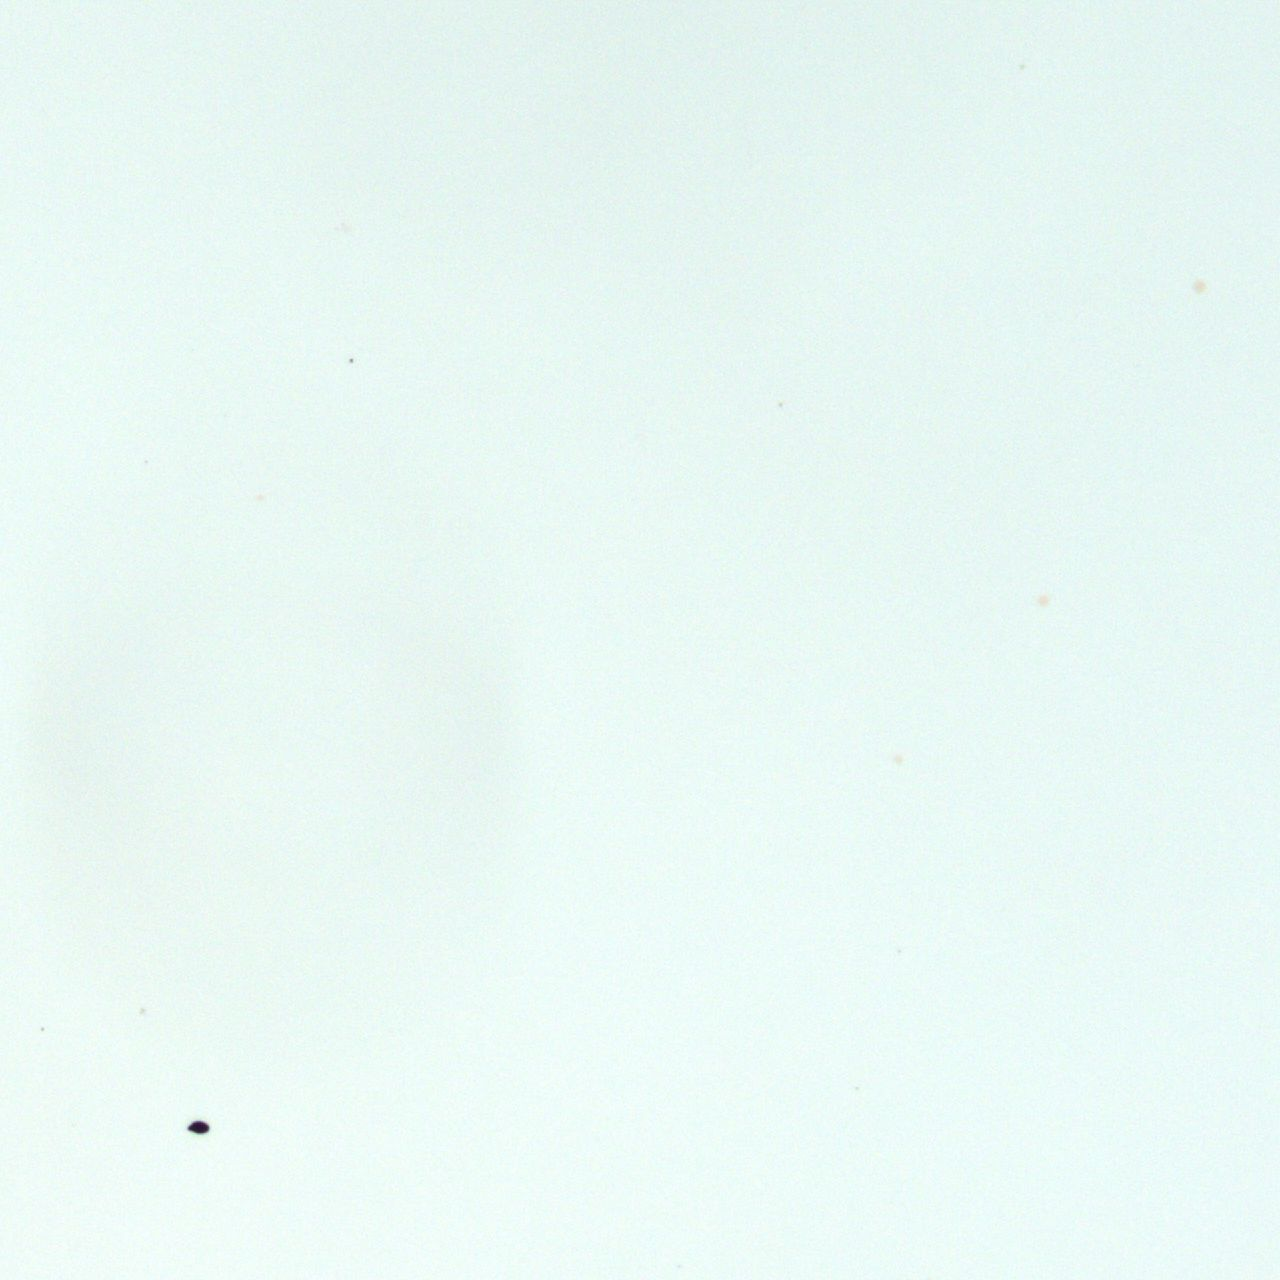dust: (188, 1121, 209, 1133), (40, 1027, 45, 1032), (349, 358, 353, 362)
